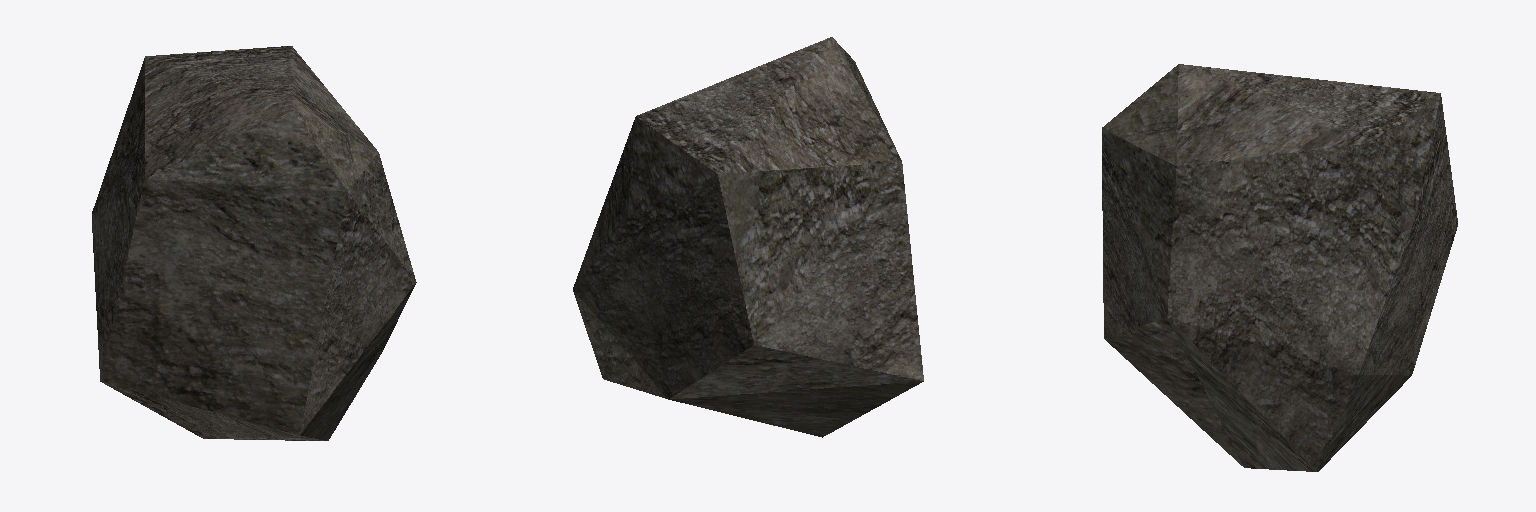
The picture shows the model from 3 angles: view 1: azimuth 30°, elevation 25°; view 2: azimuth 150°, elevation 25°; view 3: azimuth 270°, elevation 25°; orthographic projection.
Visible parts, largest first — view 1: bouldercubic8; view 2: bouldercubic8; view 3: bouldercubic8.
Boxes of the visible parts, x1,y1,x2,y2 form: bouldercubic8: [92, 46, 416, 440]; bouldercubic8: [573, 37, 923, 437]; bouldercubic8: [1102, 64, 1457, 471].
Bounding box in the file's own units: 1.94 × 2.21 × 1.93.
Materials: 1 (1 with a texture image).